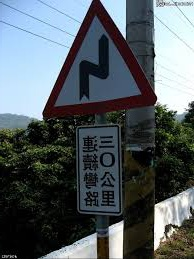Double_bend_right: (43, 1, 158, 118)
